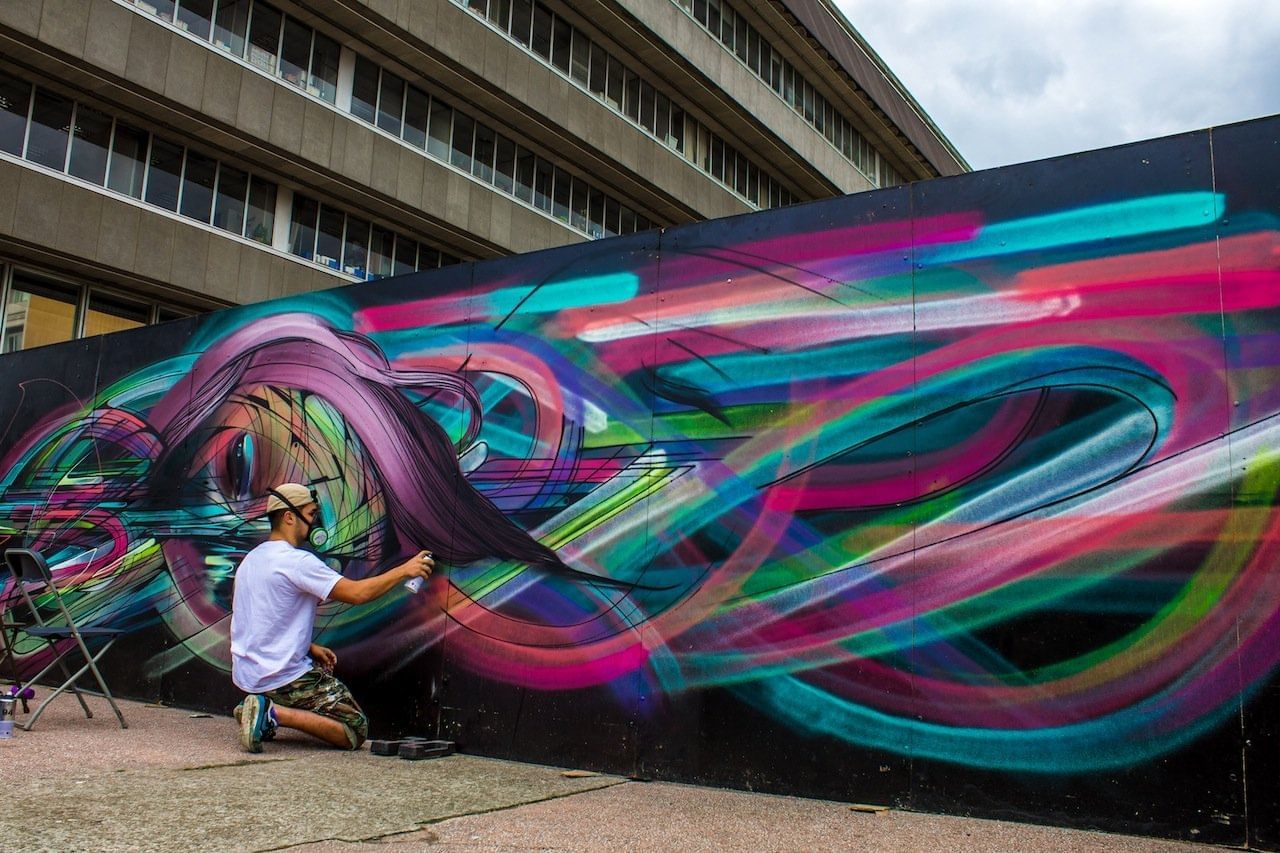graphite: (398, 291, 1280, 799), (1, 334, 229, 747), (220, 321, 395, 529)
